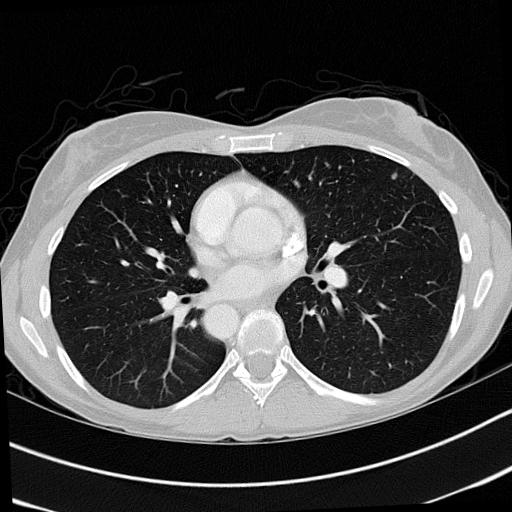nodule: (391, 170, 403, 182)
